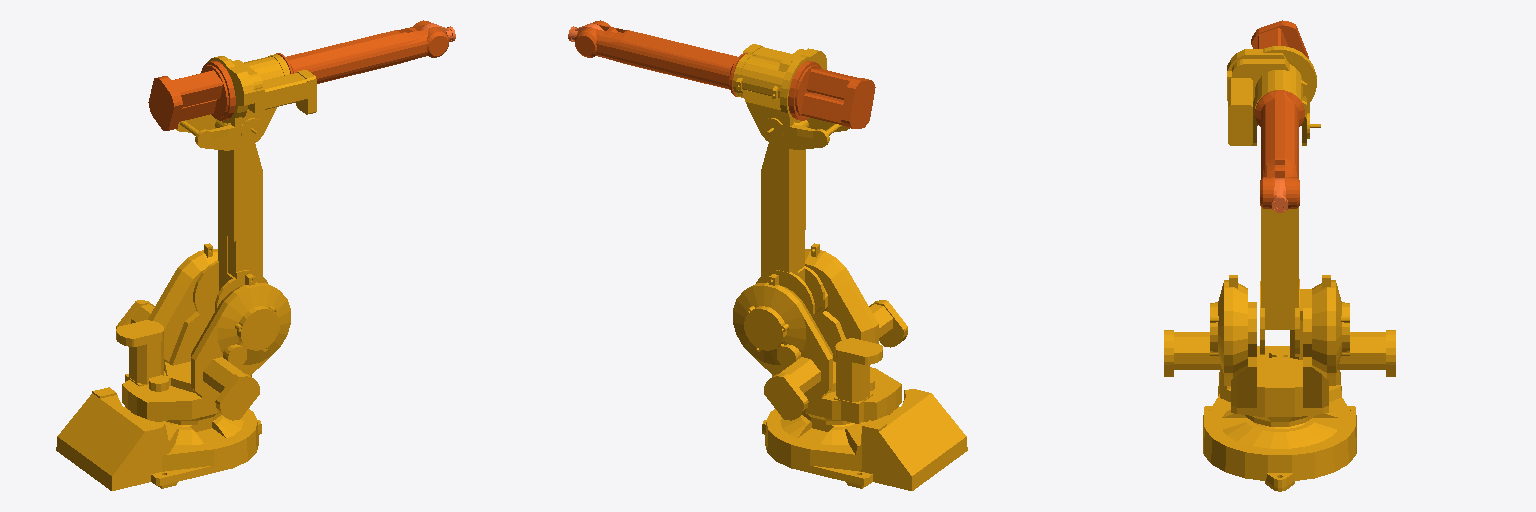
The robot description file, URDF, robot "1410_URDF_test2":
<robot
  name="1410_URDF_test2">
  
  <link name="world"/>
  <joint name="world_to_base_link" type="fixed">
    <parent link="world"/>
    <child link="base_link"/>
  </joint>

  <link
    name="base_link">
    <inertial>
      <origin
        xyz="0 0 0.069586"
        rpy="0 0 0" />
      <mass
        value="25.458" />
      <inertia
        ixx="1"
        ixy="0"
        ixz="0"
        iyy="1"
        iyz="0"
        izz="1" />
    </inertial>
    <visual>
      <origin
        xyz="0 0 0.069586"
        rpy="0 0 0" />
      <geometry>
        <mesh
          filename="package://1410_URDF_test2/meshes/base_link.STL" />
      </geometry>
      <material
        name="">
        <color
          rgba="0.93725 0.67451 0.11373 1" />
      </material>
    </visual>
    <collision>
      <origin
        xyz="0 0 0.069586"
        rpy="0 0 0" />
      <geometry>
        <mesh
          filename="package://1410_URDF_test2/meshes/base_link.STL" />
      </geometry>
    </collision>
  </link>
  
  <link name="link_1">
    <inertial>
      <origin xyz="0 0 0.07061" rpy="0 0 0" />
      <mass value="31.968" />
      <inertia
        ixx="1"
        ixy="0"
        ixz="0"
        iyy="1"
        iyz="0"
        izz="1" />
    </inertial>
    
    <visual>
      <origin xyz="0 0 0.07061" rpy="0 0 0" /> 
      <geometry>
        <mesh
          filename="package://1410_URDF_test2/meshes/link_1.STL" />
      </geometry>
      <material name="">
        <color rgba="0.93725 0.67451 0.11373 1" />
      </material>
    </visual>
    <collision>
      <origin xyz="0 0 0.07061" rpy="0 0 0" />
      <geometry>
        <mesh
          filename="package://1410_URDF_test2/meshes/link_1.STL" />
      </geometry>
    </collision>
    
  </link>
  

  
  <joint name="joint_1" type="revolute">
    <origin xyz=" 0 0 0.1935" rpy="0 0 0" />
    
    <parent link="base_link" />
    <child link="link_1" />
    <axis xyz="0 0 1" />
    
    <limit lower="-5.933" upper="5.933" effort="50" velocity="50" />
    
    <calibration
      rising="0"
      falling="0" />
    <dynamics
      damping="1"
      friction="1" />
      
    <safety_controller
      soft_upper="5.933"
      soft_lower="-5.933"
      k_position="1"
      k_velocity="1" />
    
  </joint>


  <link
    name="link_2">
    <inertial>
      <origin
        xyz="0.010226 0.03721 -0.00043323"
        rpy="0 0 0" />
      <mass
        value="7.6192" />
      <inertia
        ixx="1"
        ixy="0"
        ixz="0"
        iyy="1"
        iyz="0"
        izz="1" />
    </inertial>
    <visual>
      <origin
        xyz="0.010226 0.03721 -0.00043323"
        rpy="0 0 0" />
      <geometry>
        <mesh
          filename="package://1410_URDF_test2/meshes/link_2.STL" />
      </geometry>
      <material
        name="">
        <color
          rgba="0.93725 0.67451 0.11373 1" />
      </material>
    </visual>
    <collision>
      <origin
        xyz="0.010226 0.03721 -0.00043323"
        rpy="0 0 0" />
      <geometry>
        <mesh
          filename="package://1410_URDF_test2/meshes/link_2.STL" />
      </geometry>
    </collision>
  </link>
   


  <joint
    name="joint_2"
    type="revolute">
    <origin
      xyz="0.15 0 0.3515"
      rpy="1.5708 0 0" />
    <parent
      link="link_1" />
    <child
      link="link_2" />
    <axis
      xyz="0 0 -1" />
    
    <limit
      lower="-2.443"
      upper="2.443" 
      effort="50" 
      velocity="50"/>
    
    <calibration
      rising="0"
      falling="0" />
    <dynamics
      damping="10"
      friction="10" />
      
    <safety_controller
      soft_upper="2.433"
      soft_lower="-2.433"
      k_position="1"
      k_velocity="1" />
    
  </joint>
 
  <link
    name="link_3">
    <inertial>
      <origin
        xyz="0.010537 0.01994 0.002547"
        rpy="0 0 0" />
      <mass
        value="7.4587" />
      <inertia
        ixx="1"
        ixy="0"
        ixz="0"
        iyy="1"
        iyz="0"
        izz="1" />
    </inertial>
    <visual>
      <origin
        xyz="0.010537 0.01994 0.002547"
        rpy="0 0 0" />
      <geometry>
        <mesh
          filename="package://1410_URDF_test2/meshes/link_3.STL" />
      </geometry>
      <material
        name="">
        <color
          rgba="0.93725 0.67451 0.11373 1" />
      </material>
    </visual>
    <collision>
      <origin
        xyz="0.010537 0.01994 0.002547"
        rpy="0 0 0" />
      <geometry>
        <mesh
          filename="package://1410_URDF_test2/meshes/link_3.STL" />
      </geometry>
    </collision>
  </link>
  
  <joint
    name="joint_3"
    type="revolute">
    <origin
      xyz="-0.010 0.64509 0"
      rpy="0 0 0" />
    <parent
      link="link_2" />
    <child
      link="link_3" />
    <axis
      xyz="0 0 -1" />
    
    <limit
      lower="-2.3557"
      upper="2.3557" 
      effort="50" 
      velocity="50"/>
     
    <calibration
      rising="0"
      falling="0" />
    <dynamics
      damping="1"
      friction="1" />
      
    <safety_controller
      soft_upper="2.3557"
      soft_lower="-2.3557"
      k_position="1"
      k_velocity="1" />
      
  </joint>
  

  <link
    name="link_4">
    <inertial>
      <origin
        xyz="-0.02 -6.7358E-16 0.01448"
        rpy="0 0 0" />
      <mass
        value="11.023" />
      <inertia
        ixx="1"
        ixy="0"
        ixz="0"
        iyy="1"
        iyz="0"
        izz="1" />
    </inertial>
    <visual>
      <origin
        xyz="-0.02 -6.7358E-16 0.01448"
        rpy="0 0 0" />
      <geometry>
        <mesh
          filename="package://1410_URDF_test2/meshes/link_4.STL" />
      </geometry>
      <material
        name="">
        <color
          rgba="0.8902 0.41176 0.12549 1" />
      </material>
    </visual>
    <collision>
      <origin
        xyz="-0.02 -6.7358E-16 0.01448"
        rpy="0 0 0" />
      <geometry>
        <mesh
          filename="package://1410_URDF_test2/meshes/link_4.STL" />
      </geometry>
    </collision>
  </link>
  
  <joint
    name="joint_4"
    type="revolute">
    <origin
      xyz="0.031 0.12491 0"
      rpy="-1.5708 0 -1.5708" />
    <parent
      link="link_3" />
    <child
      link="link_4" />
    <axis
      xyz="0 0 1" />
    
    <limit
      lower="-5.235"
      upper="5.235" 
      effort="50" 
      velocity="50"
      />
    
    <calibration
      rising="0"
      falling="0" />
    <dynamics
      damping="10"
      friction="10" />
      
    <safety_controller
      soft_upper="5.235"
      soft_lower="-5.235"
      k_position="1"
      k_velocity="1" />
   
  </joint>

  <link
    name="link_5">
    <inertial>
      <origin
        xyz="0.0084108 0 -1.4838E-18"
        rpy="0 0 0" />
      <mass
        value="0.29435" />
      <inertia
        ixx="1"
        ixy="0"
        ixz="0"
        iyy="1"
        iyz="0"
        izz="1" />
    </inertial>
    <visual>
      <origin
        xyz="0.0084108 0 -1.4838E-18"
        rpy="0 0 0" />
      <geometry>
        <mesh
          filename="package://1410_URDF_test2/meshes/link_5.STL" />
      </geometry>
      <material
        name="">
        <color
          rgba="1 0.50196 0.25098 1" />
      </material>
    </visual>
    <collision>
      <origin
        xyz="0.0084108 0 -1.4838E-18"
        rpy="0 0 0" />
      <geometry>
        <mesh
          filename="package://1410_URDF_test2/meshes/link_5.STL" />
      </geometry>
    </collision>
  </link>
  
  <joint
    name="joint_5"
    type="revolute">
    <origin
      xyz="-0.02 0 0.735"
      rpy="1.5708 -1.5708 0" />
    <parent
      link="link_4" />
    <child
      link="link_5" />
    <axis
      xyz="0 0 -1" />
    
    <limit
      lower="-4.0135"
      upper="4.0135"
      effort="50" 
      velocity="50"
      />
    
    <calibration
      rising="0"
      falling="0" />
    <dynamics
      damping="10"
      friction="10" />
    
    <safety_controller
      soft_upper="4.0135"
      soft_lower="-4.0135"
      k_position="1"
      k_velocity="1" />
     
  </joint>
  
 
  <link
    name="link_6">
    <inertial>
      <origin
        xyz="4.3397E-05 -0.00034341 -0.00056226"
        rpy="0 0 0" />
      <mass
        value="0.016853" />
      <inertia
        ixx="1"
        ixy="0"
        ixz="0"
        iyy="1"
        iyz="0"
        izz="1" />
    </inertial>
    <visual>
      <origin
        xyz="4.3397E-05 -0.00034341 -0.00056226"
        rpy="0 0 0" />
      <geometry>
        <mesh
          filename="package://1410_URDF_test2/meshes/link_6.STL" />
      </geometry>
      <material
        name="">
        <color
          rgba="1 0.50196 0.25098 1" />
      </material>
    </visual>
    <collision>
      <origin
        xyz="4.3397E-05 -0.00034341 -0.00056226"
        rpy="0 0 0" />
      <geometry>
        <mesh
          filename="package://1410_URDF_test2/meshes/link_6.STL" />
      </geometry>
    </collision>
  </link>

  <joint
    name="joint_6"
    type="revolute">
    <origin
      xyz="0.08 0 0"
      rpy="-3.0104 1.4989 -3.0107" />
    <parent
      link="link_5" />
    <child
      link="link_6" />
    <axis
      xyz="-0.071244 0 0.99746" />
    
    <limit
      lower="-6.282"
      upper="6.282" 
      effort="50" 
      velocity="50"/>
    
    <calibration
      rising="0"
      falling="0" />
    <dynamics
      damping="10"
      friction="10" />
      
    <safety_controller
      soft_upper="6.282"
      soft_lower="-6.282"
      k_position="1"
      k_velocity="1" />
      
  </joint>

  
</robot>


--- Facts derived from the render (not from the file) ---
The picture shows the robot from 3 angles, left to right: view 1: azimuth 30°, elevation 25°; view 2: azimuth 150°, elevation 25°; view 3: azimuth 270°, elevation 25°; orthographic projection.
Model 1410_URDF_test2 with 8 links and 7 joints (6 revolute, 1 fixed), rooted at world, posed every joint at zero.
Visible links, largest first — view 1: link_1, base_link, link_4, link_2, link_3; view 2: link_1, base_link, link_4, link_2, link_3; view 3: link_1, base_link, link_3, link_4, link_2.
Link boxes in pixels (left/top/right/bottom): link_1: left=116, top=243, right=290, bottom=424; base_link: left=56, top=387, right=261, bottom=490; link_4: left=148, top=20, right=448, bottom=130; link_2: left=193, top=120, right=267, bottom=320; link_3: left=176, top=54, right=316, bottom=150; link_1: left=733, top=243, right=907, bottom=424; base_link: left=762, top=389, right=967, bottom=490; link_4: left=575, top=20, right=875, bottom=128; link_2: left=756, top=120, right=824, bottom=317; link_3: left=733, top=44, right=849, bottom=149; link_1: left=1164, top=275, right=1395, bottom=426; base_link: left=1203, top=370, right=1356, bottom=491; link_3: left=1227, top=46, right=1320, bottom=145; link_4: left=1251, top=20, right=1308, bottom=209; link_2: left=1260, top=207, right=1299, bottom=356.
Bounding box of the posed robot: 1.39 × 0.682 × 1.38 m (x, y, z).
Meshes: 7 distinct files referenced, 7 mesh visuals loaded (7 binary STL).